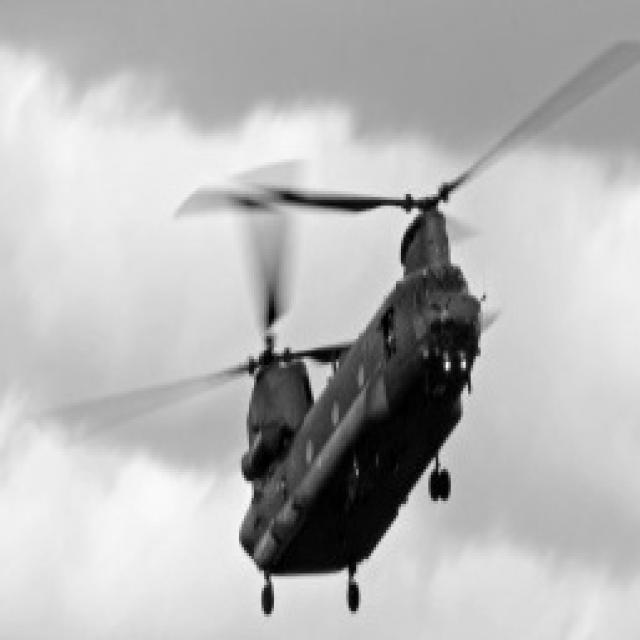Helicopter: (62, 42, 640, 613)
